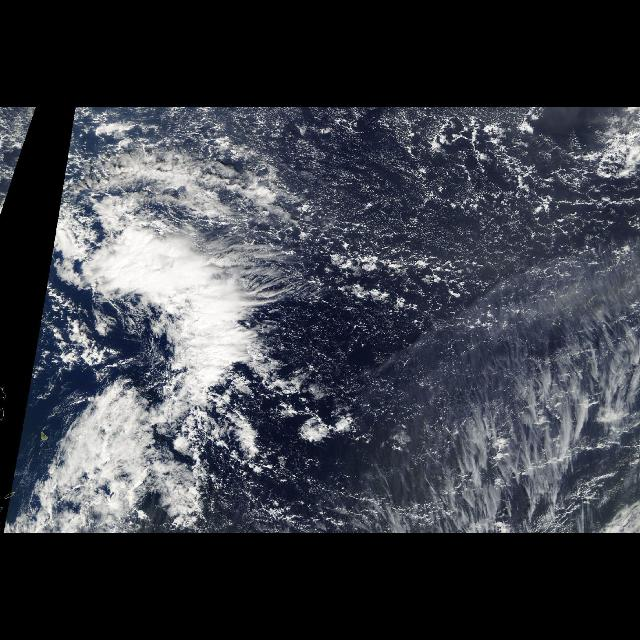Gravel: (258, 111, 640, 435)
Sugar: (263, 112, 587, 270)
